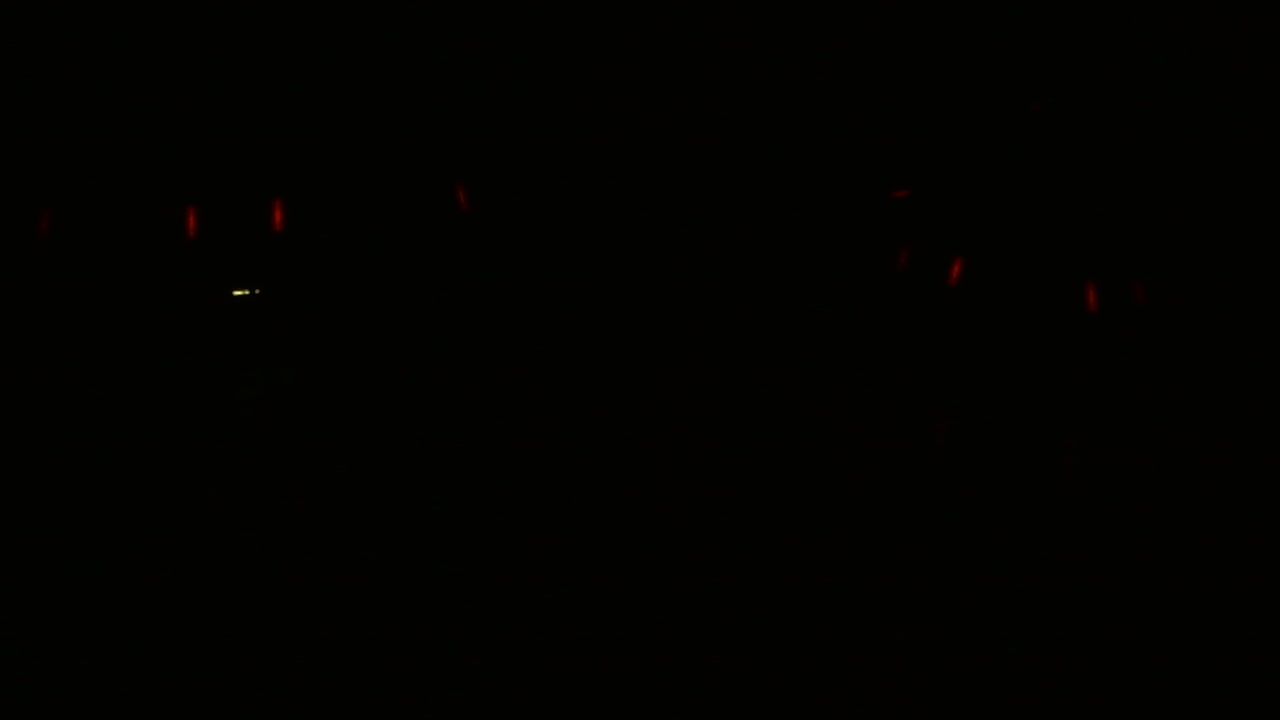pair1: (178, 199, 288, 234)
